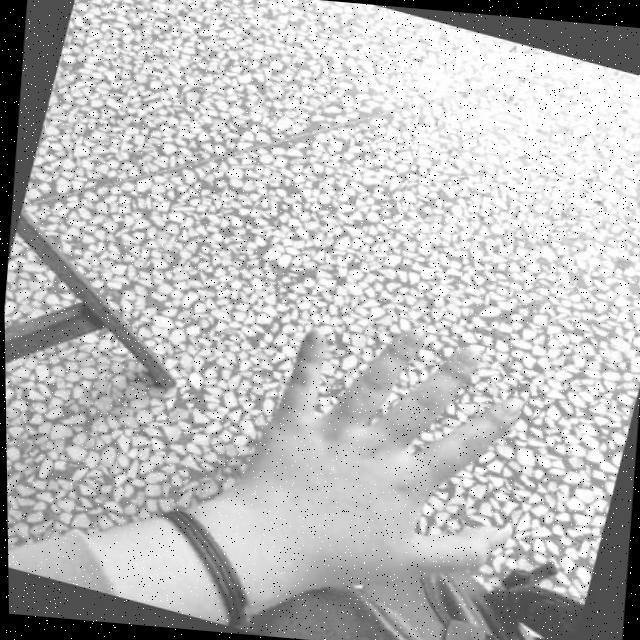no-gloves: (198, 306, 534, 616)
